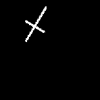single_crochet: (25, 7, 45, 41)
